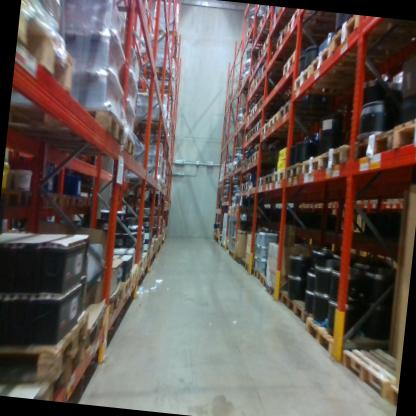pallet: (0, 297, 93, 390), (12, 0, 84, 96), (8, 100, 128, 151), (324, 14, 409, 76), (297, 308, 378, 369), (341, 338, 402, 403), (290, 63, 367, 109), (37, 339, 86, 402), (305, 45, 358, 92), (275, 22, 338, 58), (274, 95, 336, 131), (293, 296, 344, 337), (319, 131, 360, 177), (353, 122, 392, 168), (264, 110, 325, 139), (77, 305, 110, 358), (286, 8, 338, 39), (388, 103, 416, 156), (269, 9, 309, 36), (259, 120, 302, 145), (278, 285, 312, 315), (302, 146, 329, 182), (232, 144, 268, 171), (0, 183, 27, 218), (280, 46, 311, 76), (100, 283, 124, 319), (255, 94, 291, 118), (136, 113, 171, 137), (147, 23, 182, 47), (258, 59, 292, 83), (230, 201, 270, 221), (117, 126, 139, 162), (256, 14, 294, 34), (251, 74, 285, 95), (283, 154, 305, 186), (258, 32, 283, 59), (15, 184, 47, 205), (266, 276, 288, 305), (262, 5, 294, 24), (142, 81, 176, 98), (141, 63, 176, 79), (247, 59, 271, 82), (246, 82, 278, 99), (242, 29, 269, 49), (113, 276, 133, 301), (43, 187, 63, 209), (248, 16, 275, 32), (122, 261, 139, 286), (252, 149, 276, 164), (68, 186, 83, 208), (386, 381, 397, 410), (80, 193, 95, 214), (253, 117, 268, 138), (271, 164, 285, 185), (259, 269, 273, 290), (249, 99, 263, 119), (242, 258, 257, 275), (251, 266, 265, 284), (59, 186, 71, 207), (244, 180, 261, 193), (256, 172, 266, 192), (275, 7, 299, 15), (265, 170, 274, 189), (141, 247, 152, 262), (237, 254, 246, 272), (244, 113, 254, 129), (135, 256, 144, 272), (139, 251, 148, 266), (247, 124, 256, 139), (237, 178, 246, 192), (227, 248, 236, 261), (239, 109, 248, 122), (215, 237, 224, 249), (243, 128, 250, 143), (246, 154, 254, 166), (221, 239, 228, 252), (241, 156, 248, 169), (233, 255, 241, 266), (237, 158, 242, 168), (227, 202, 231, 214), (241, 101, 247, 107)
